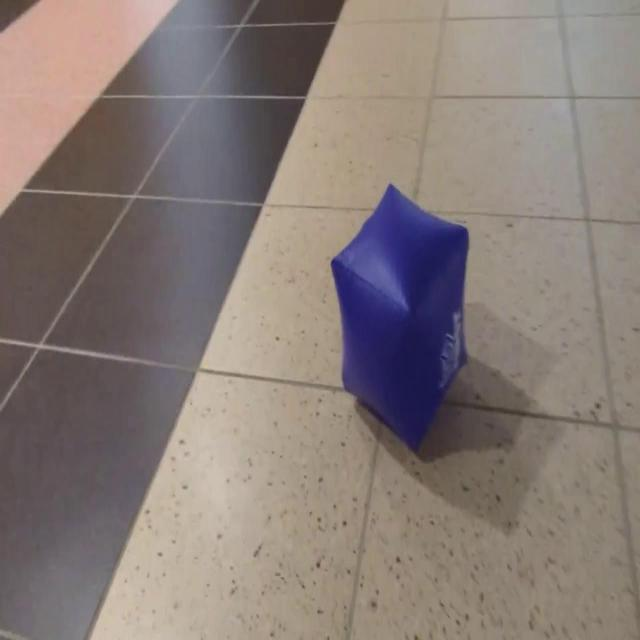frc_cube: (332, 182, 470, 456)
